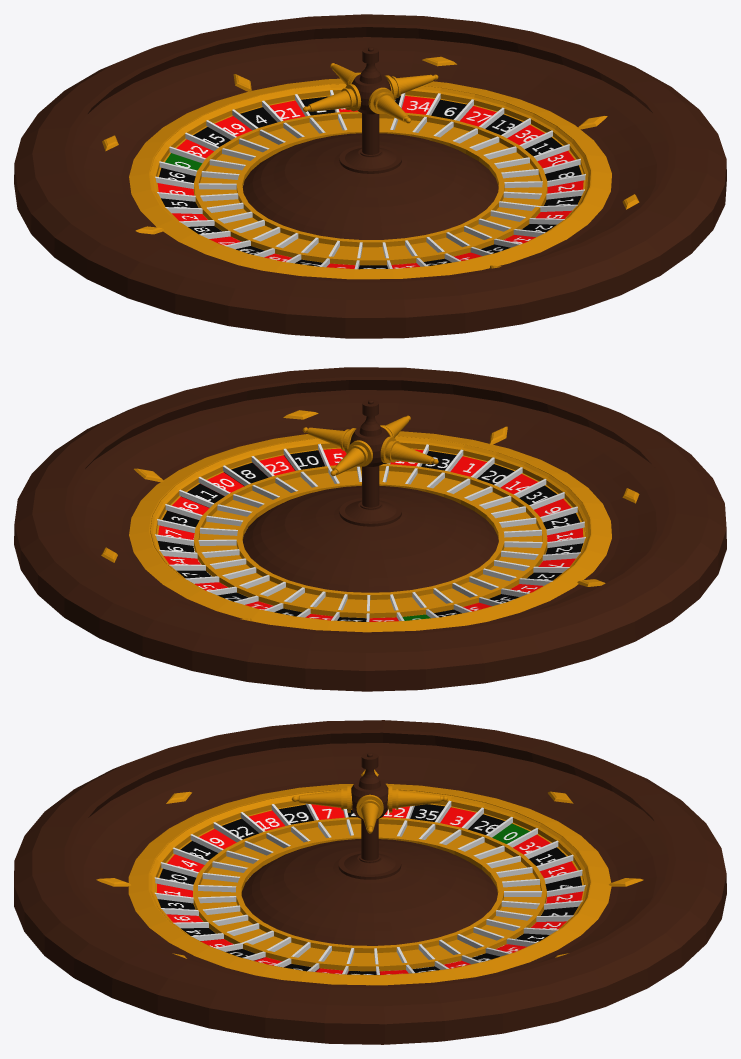
The model's file is Roulette_Table.glb.
3 renders of one model, top to bottom at view 1: azimuth 30°, elevation 25°; view 2: azimuth 150°, elevation 25°; view 3: azimuth 270°, elevation 25°, orthographic.
Parts seen in each view (by area): view 1: OuterCircle, InnerCircle, InnerPillar, Seperator, numbers, Circle.004, Circle.001, Circle.003; view 2: OuterCircle, InnerCircle, InnerPillar, Seperator, numbers, Circle.004, Circle.002, Circle.003; view 3: OuterCircle, InnerCircle, InnerPillar, Seperator, numbers, Circle.001, Circle.002, Circle.003.
Part boxes in pixels (x1=…): OuterCircle: x1=14, y1=14, x2=726, y2=338; InnerCircle: x1=129, y1=78, x2=611, y2=279; InnerPillar: x1=242, y1=47, x2=498, y2=239; Seperator: x1=155, y1=90, x2=585, y2=269; numbers: x1=157, y1=95, x2=583, y2=269; Circle.004: x1=303, y1=84, x2=361, y2=111; Circle.001: x1=368, y1=87, x2=411, y2=123; Circle.003: x1=385, y1=74, x2=438, y2=100; OuterCircle: x1=14, y1=367, x2=726, y2=691; InnerCircle: x1=129, y1=431, x2=611, y2=632; InnerPillar: x1=242, y1=399, x2=498, y2=592; Seperator: x1=155, y1=443, x2=585, y2=621; numbers: x1=158, y1=448, x2=583, y2=621; Circle.004: x1=380, y1=436, x2=438, y2=464; Circle.002: x1=330, y1=440, x2=372, y2=476; Circle.003: x1=302, y1=427, x2=356, y2=453; OuterCircle: x1=14, y1=720, x2=726, y2=1044; InnerCircle: x1=128, y1=783, x2=611, y2=985; InnerPillar: x1=241, y1=752, x2=497, y2=945; Seperator: x1=154, y1=800, x2=585, y2=974; numbers: x1=157, y1=804, x2=582, y2=974; Circle.001: x1=291, y1=785, x2=352, y2=812; Circle.002: x1=387, y1=785, x2=447, y2=812; Circle.003: x1=356, y1=794, x2=383, y2=833.
Size of the model in its own units: 5.55 by 1.35 by 5.55.
Materials: 3 (1 with a texture image).
